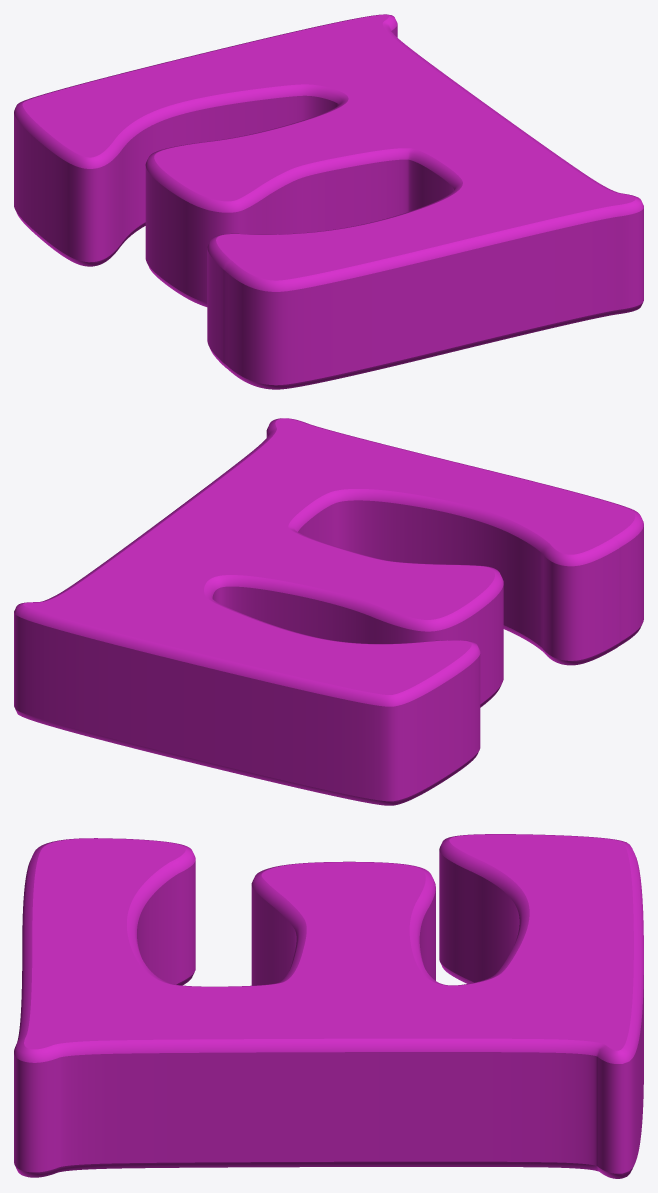
The model's file is Bubble_LetterE.fbx.
The picture shows the model from 3 angles, top to bottom: view 1: azimuth 30°, elevation 25°; view 2: azimuth 150°, elevation 25°; view 3: azimuth 270°, elevation 25°; orthographic projection. The views are drawn at different scales.
Parts seen in each view (by area): view 1: BubbleLetter_E; view 2: BubbleLetter_E; view 3: BubbleLetter_E.
Boxes of the visible parts, x1=… form: BubbleLetter_E: x1=14, y1=14, x2=643, y2=389; BubbleLetter_E: x1=14, y1=418, x2=643, y2=805; BubbleLetter_E: x1=14, y1=834, x2=643, y2=1178.
Bounding box in the file's own units: 0.5278 × 0.14 × 0.6249.
